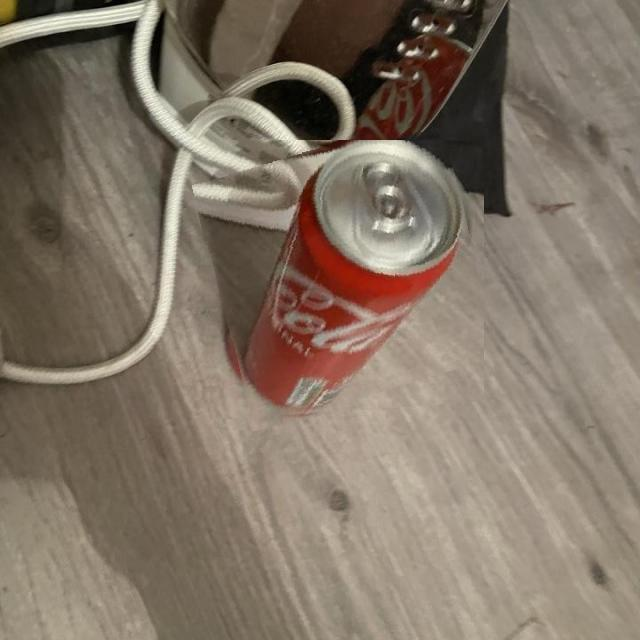recyclable: (204, 140, 484, 420)
